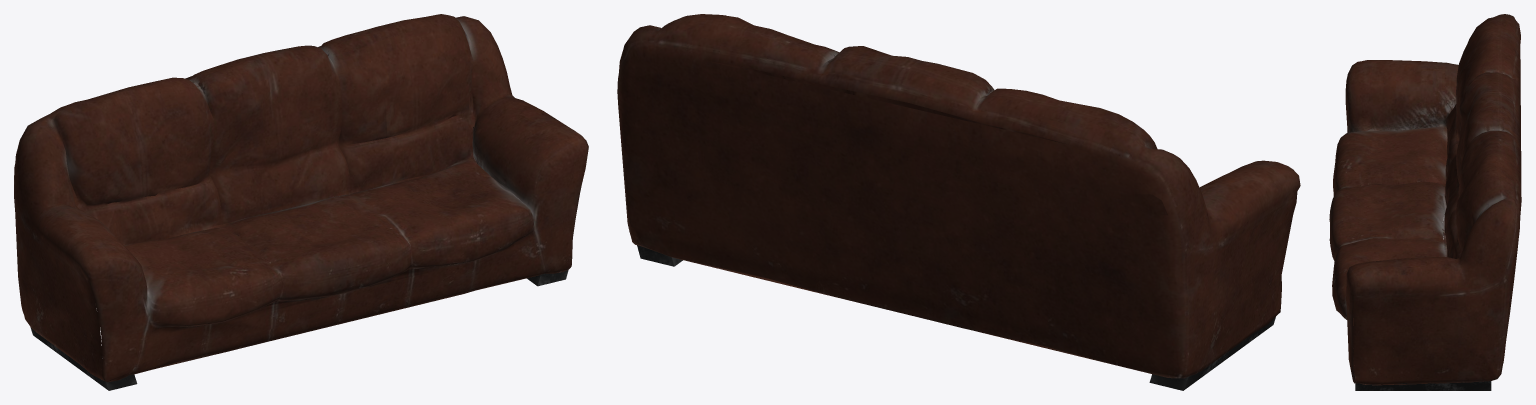
File: leather-sofa.glb
3 renders of one model, left to right at view 1: azimuth 30°, elevation 25°; view 2: azimuth 150°, elevation 25°; view 3: azimuth 270°, elevation 25°, orthographic. The views are drawn at different scales.
Visible parts, largest first — view 1: Big_Sofa1; view 2: Big_Sofa1; view 3: Big_Sofa1.
Part boxes in pixels (x1,y1,x2,y2): Big_Sofa1: [14, 14, 588, 390]; Big_Sofa1: [617, 14, 1300, 390]; Big_Sofa1: [1329, 14, 1521, 390].
Bounding box in the file's own units: 2.33 × 0.9787 × 0.8551.
Materials: 1 (1 with a texture image).
